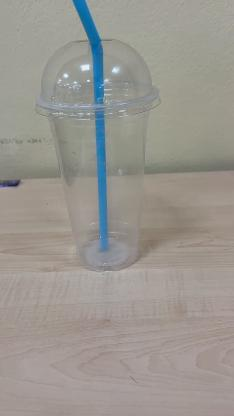Plastic Cup: (35, 40, 163, 274)
